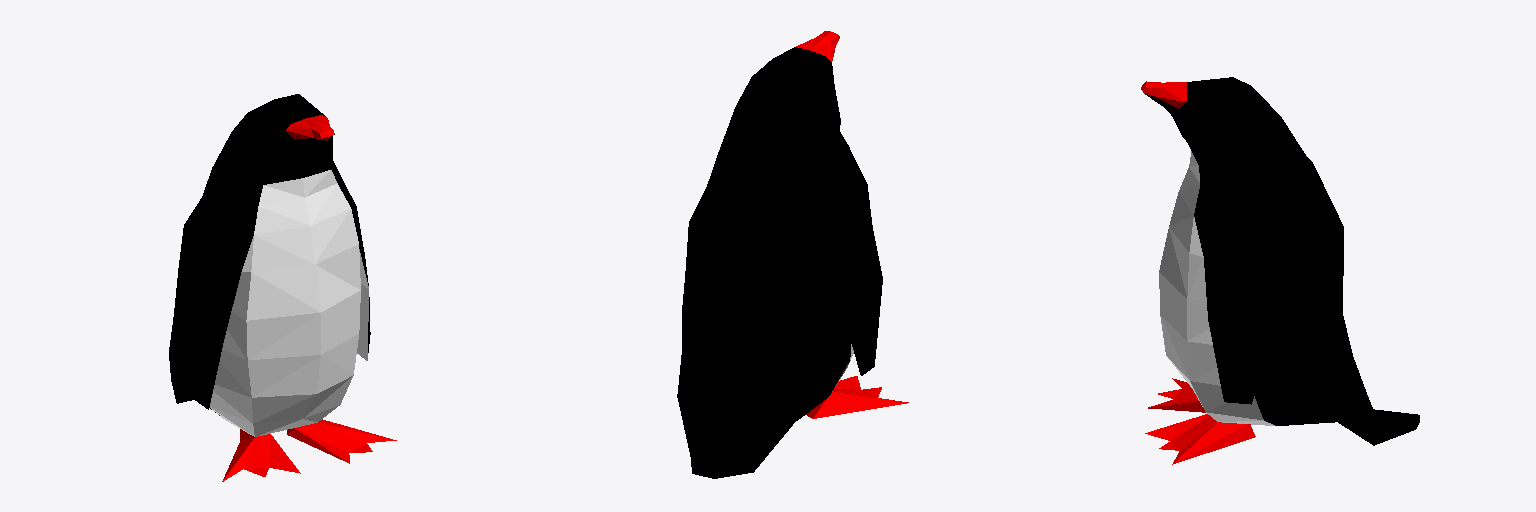
The picture shows the model from 3 angles: view 1: azimuth 30°, elevation 25°; view 2: azimuth 150°, elevation 25°; view 3: azimuth 270°, elevation 25°; orthographic projection.
Parts seen in each view (by area): view 1: Cube_Cube.004; view 2: Cube_Cube.004; view 3: Cube_Cube.004.
Boxes of the visible parts, box(x1,y1,x2,y2) form: Cube_Cube.004: box(169, 94, 396, 481); Cube_Cube.004: box(677, 31, 908, 478); Cube_Cube.004: box(1141, 77, 1419, 464).
Bounding box in the file's own units: 2.75 × 5.2 × 3.76.
Materials: 1 (1 with a texture image).